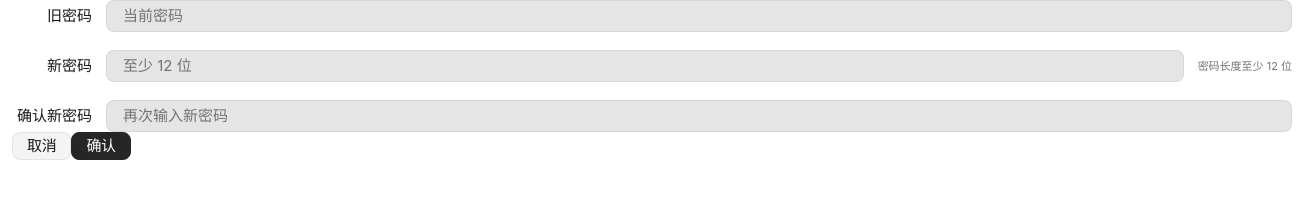
Test case: ChangePasswordModal › 两次输入不一致时本地拦截
This screenshot has width=1304, height=212.
Step 1. Type "old-password" into the password field with test id "old-password" → {"x": 699, "y": 16}, box [121,4,1277,28]
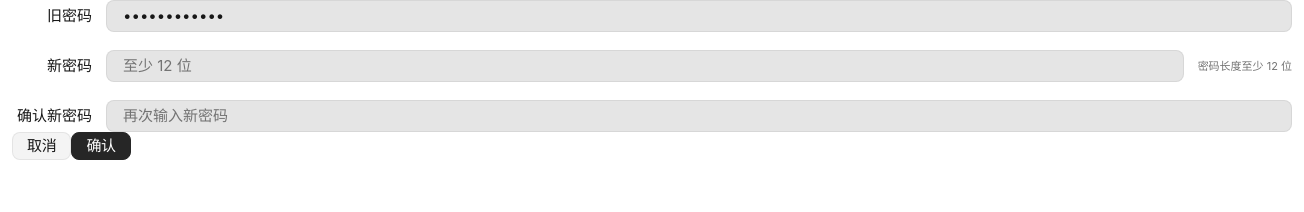
Step 2. Type "NewStrongPass1" into the password field with test id "new-password" → {"x": 645, "y": 66}, box [121,54,1169,78]
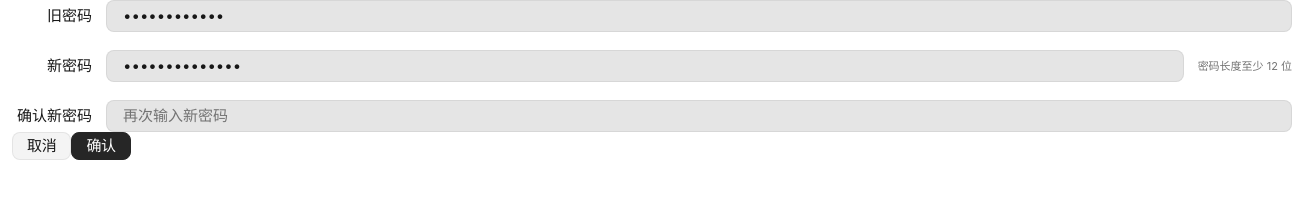
Step 3. Type "DifferentPass1" into the password field with test id "confirm-password" → {"x": 699, "y": 116}, box [121,104,1277,128]
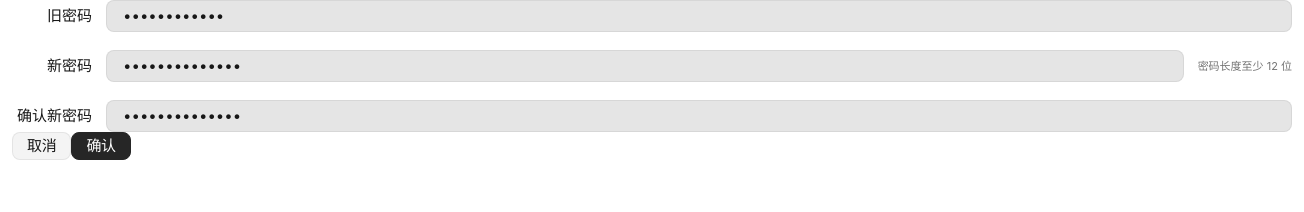
Step 4. Click the button with test id "submit-password" → {"x": 101, "y": 146}, box [71,132,131,160]
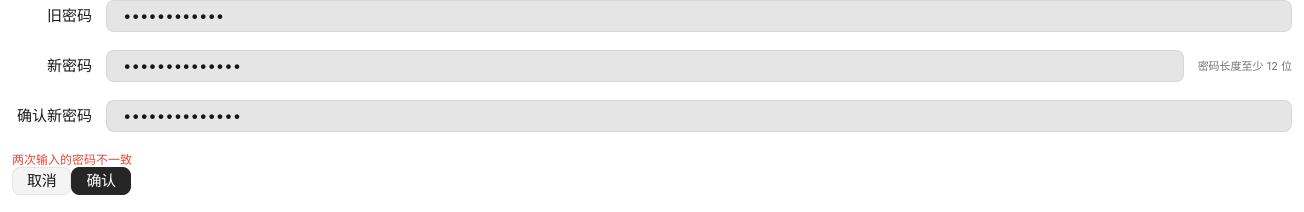
Expected: the text "两次输入的密码不一致" is shown, [12,152,132,167]
